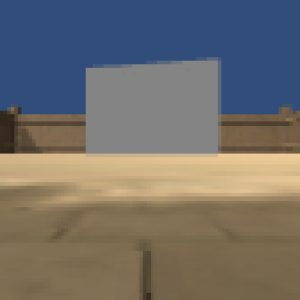wall: (84, 63, 219, 155)
